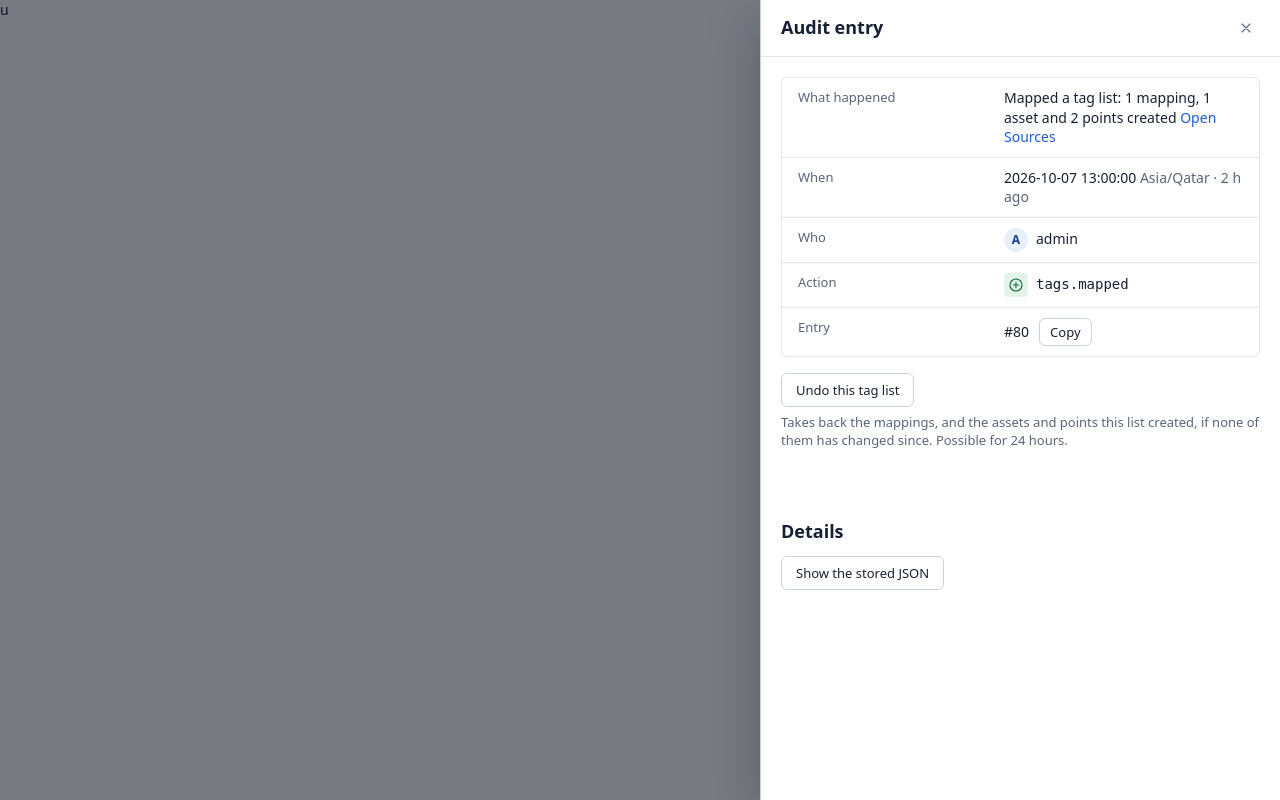
Test: AuditDrawer: Undo this tag list › shows the server's refusal in place, as an alert, with no toast, and lets the person try again
Click the button "Undo this tag list".
click(848, 390)  # box [781,373,914,407]
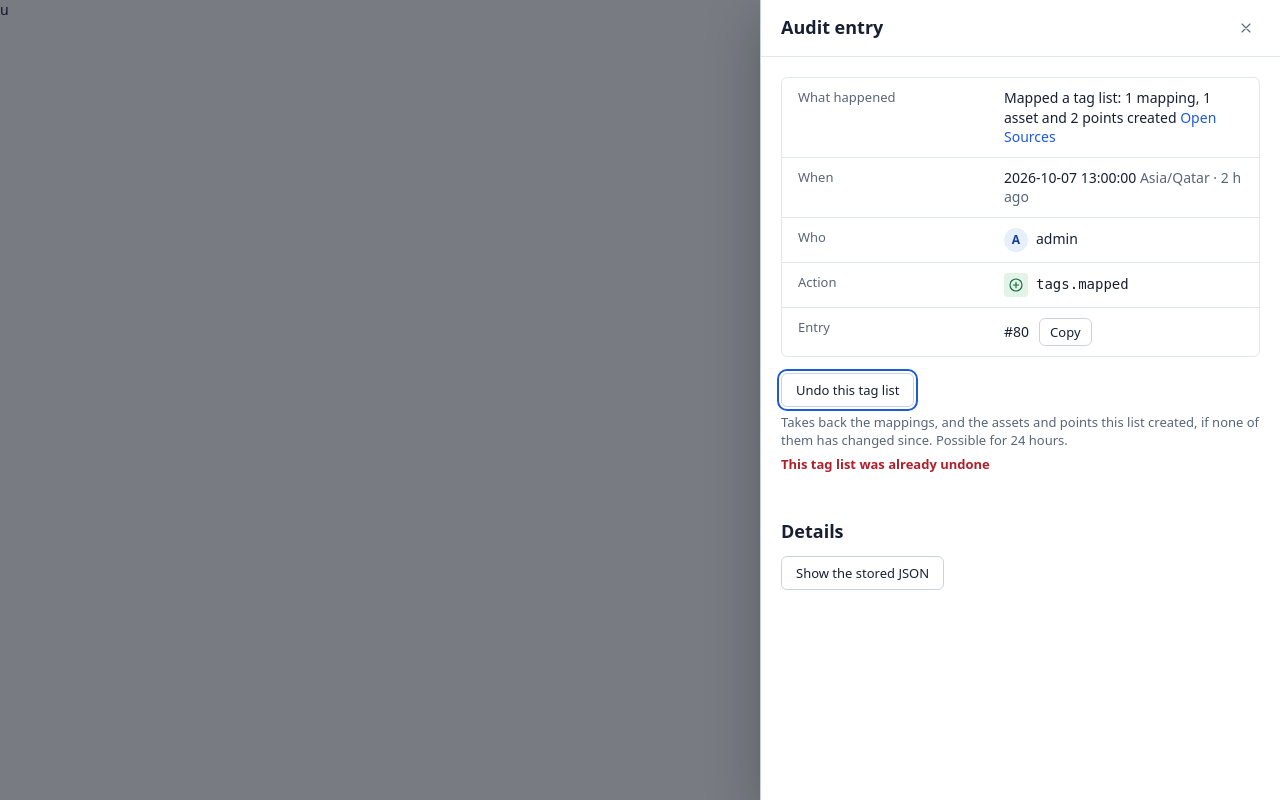
Expected: the message reads "This tag list was already undone", [781,455,990,473]
